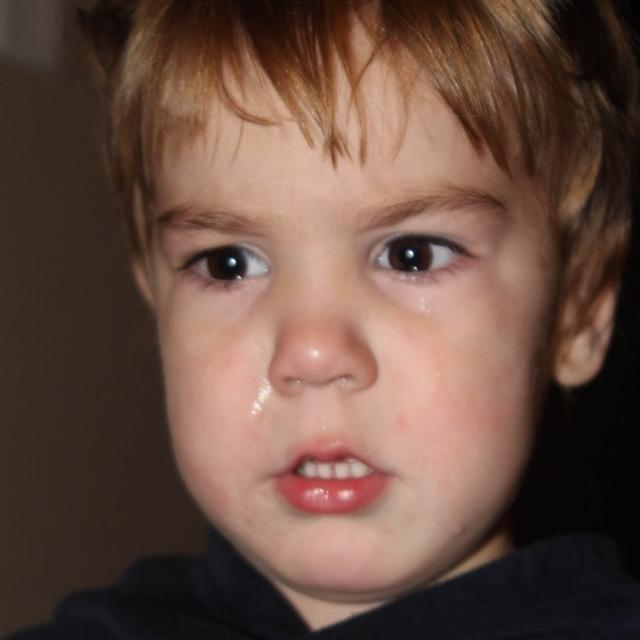Depress: (137, 37, 566, 593)
